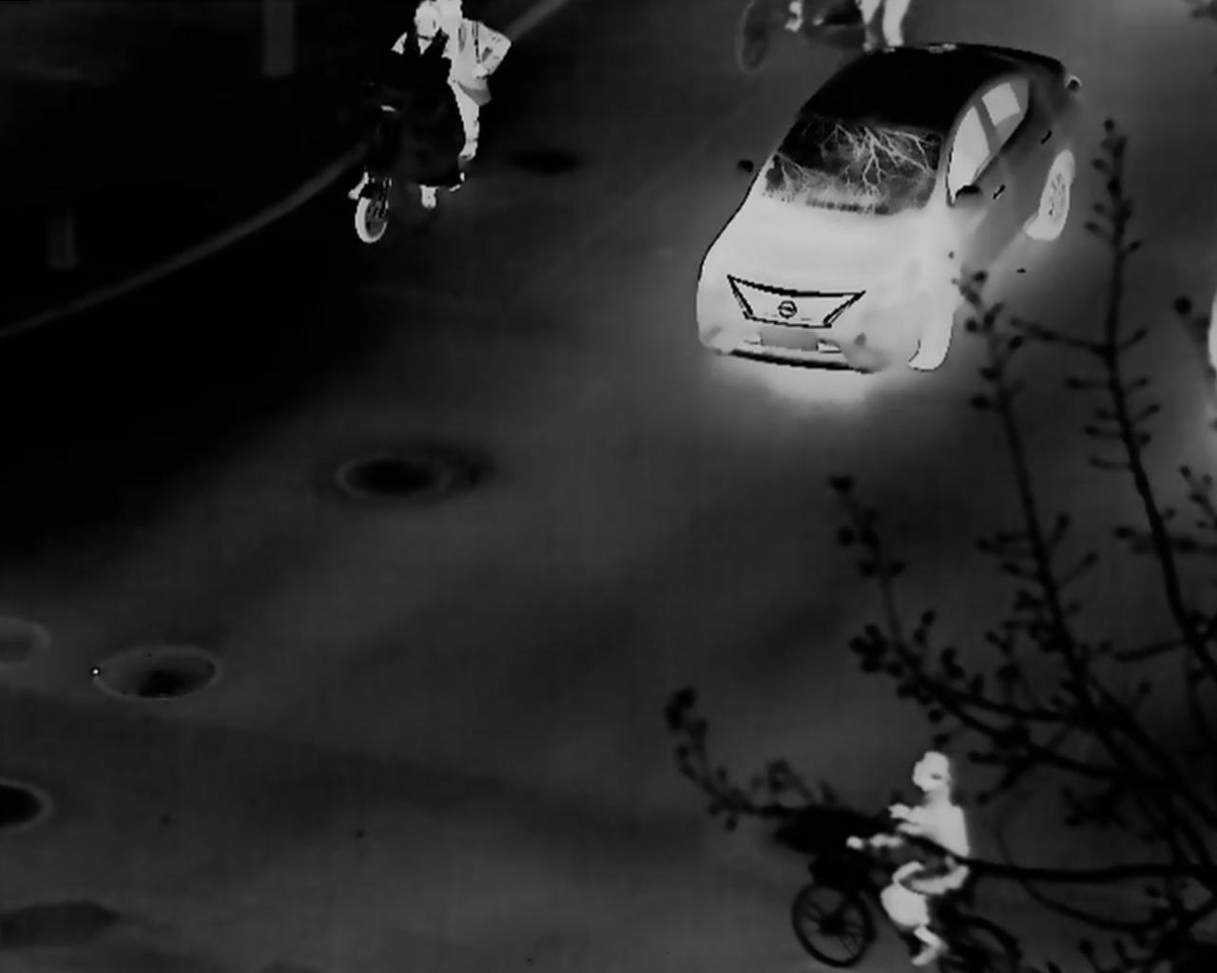person: (843, 748, 967, 966)
